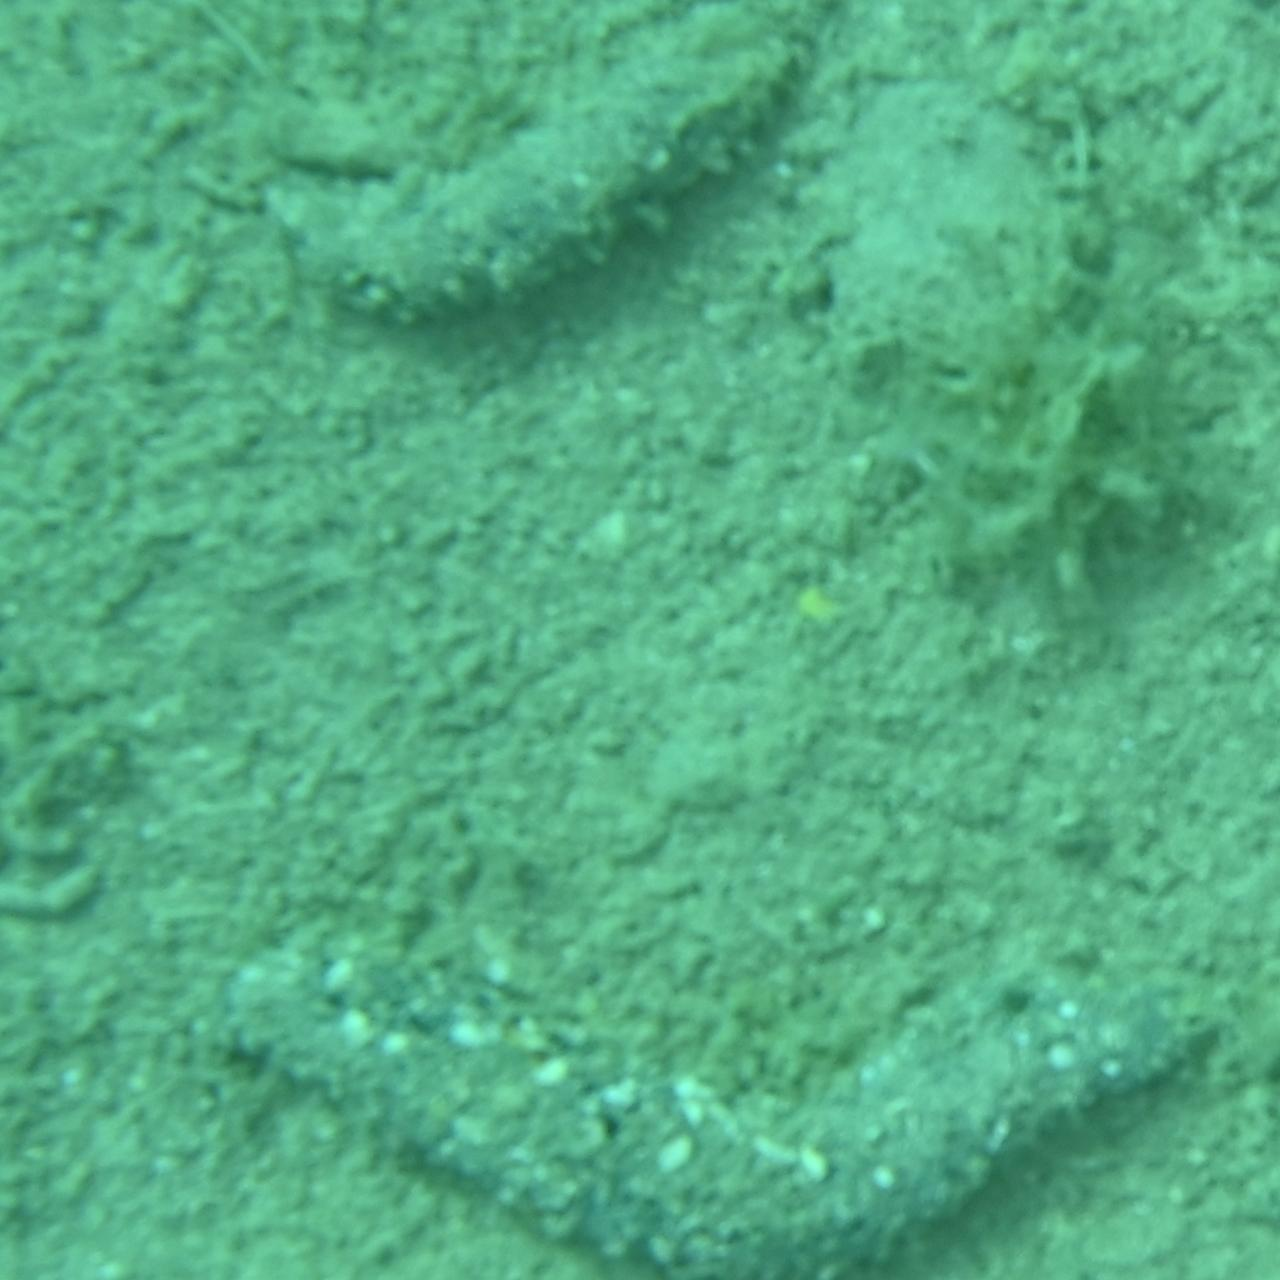Holothuria tubulosa: (232, 938, 1238, 1280), (260, 0, 831, 329)
